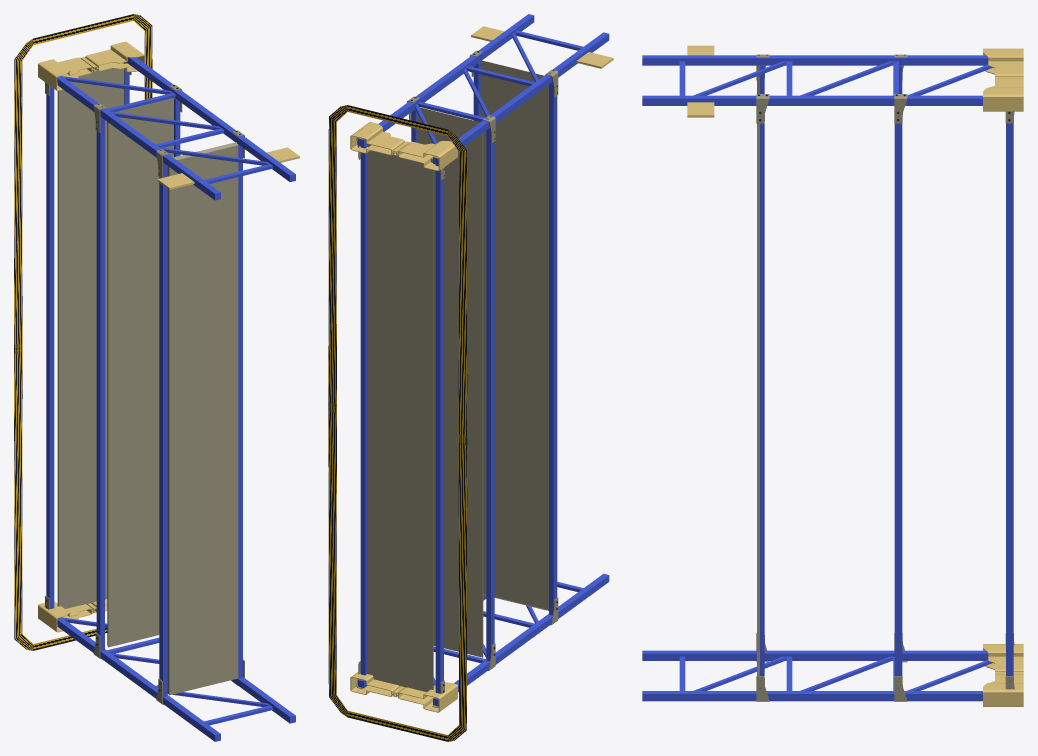
The model's file is warehouse_shelf_1.glb.
3 renders of one model, left to right at view 1: azimuth 30°, elevation 25°; view 2: azimuth 150°, elevation 25°; view 3: azimuth 270°, elevation 25°, orthographic. The views are drawn at different scales.
Parts seen in each view (by area): view 1: shelf_emerg_tape; view 2: shelf_emerg_tape; view 3: shelf_emerg_tape.
Part boxes in pixels (x1,y1,x2,y2): shelf_emerg_tape: (14, 14, 299, 741); shelf_emerg_tape: (328, 14, 613, 741); shelf_emerg_tape: (642, 45, 1023, 706).
Size of the model in its own units: 2.85 by 11.99 by 6.16.
Materials: 5 (1 with a texture image).
